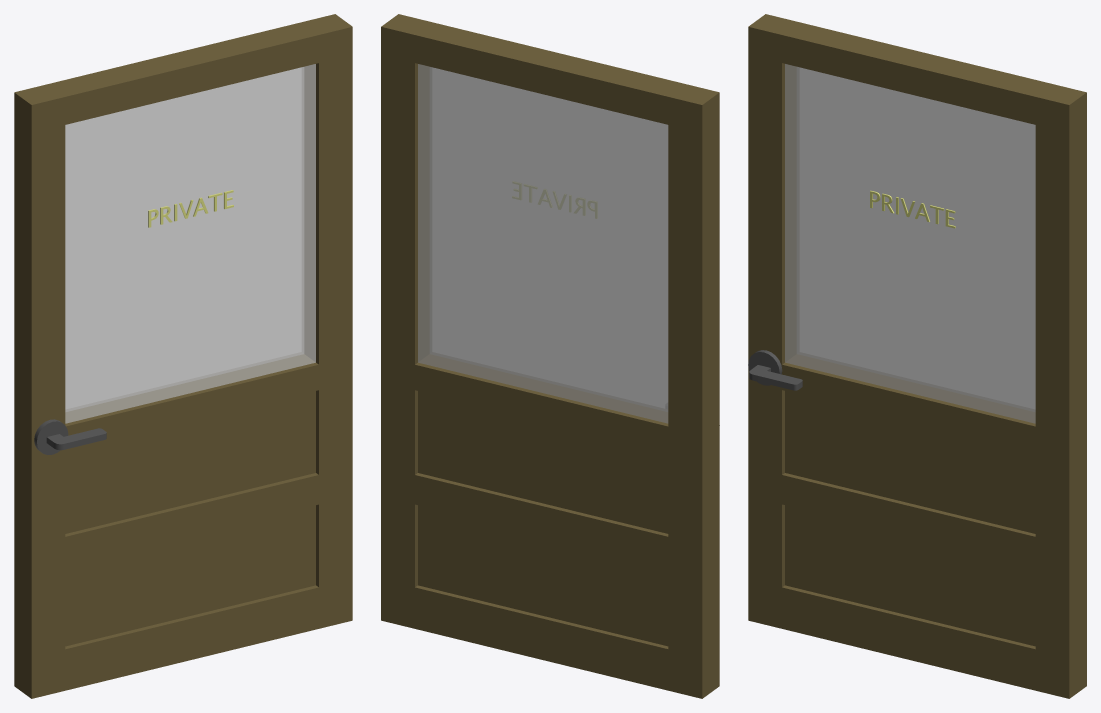
Rendered from PrivateDoor.fbx.
3 views of the same model, side by side, from view 1: azimuth 30°, elevation 25°; view 2: azimuth 150°, elevation 25°; view 3: azimuth 330°, elevation 25° (orthographic).
Parts seen in each view (by area): view 1: polySurface73; view 2: polySurface73; view 3: polySurface73.
Part boxes in pixels (left/top/right/bottom): polySurface73: left=14, top=14, right=352, bottom=698; polySurface73: left=381, top=14, right=719, bottom=698; polySurface73: left=748, top=14, right=1086, bottom=698.
Bounding box in the file's own units: 4.76 × 8.41 × 0.8067.
